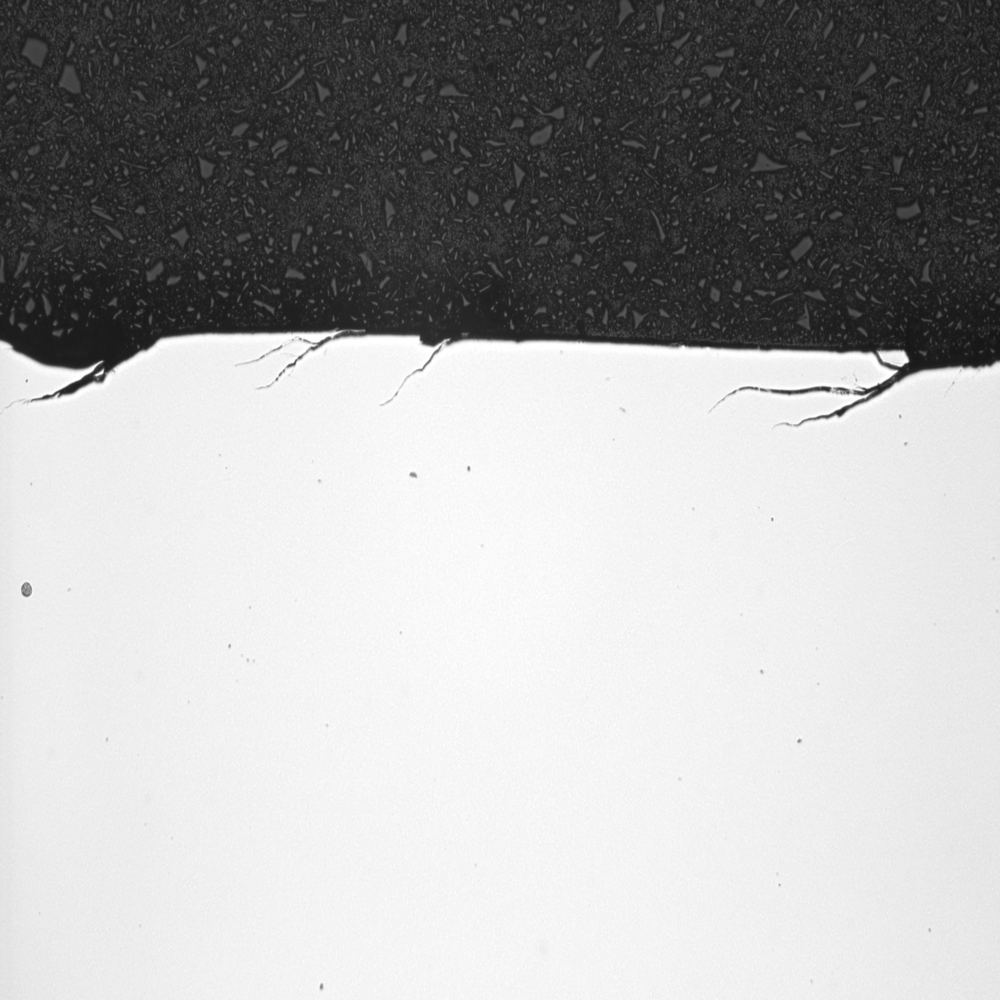crack: (710, 342, 933, 441), (4, 322, 164, 433), (364, 320, 474, 424), (229, 325, 361, 395)
